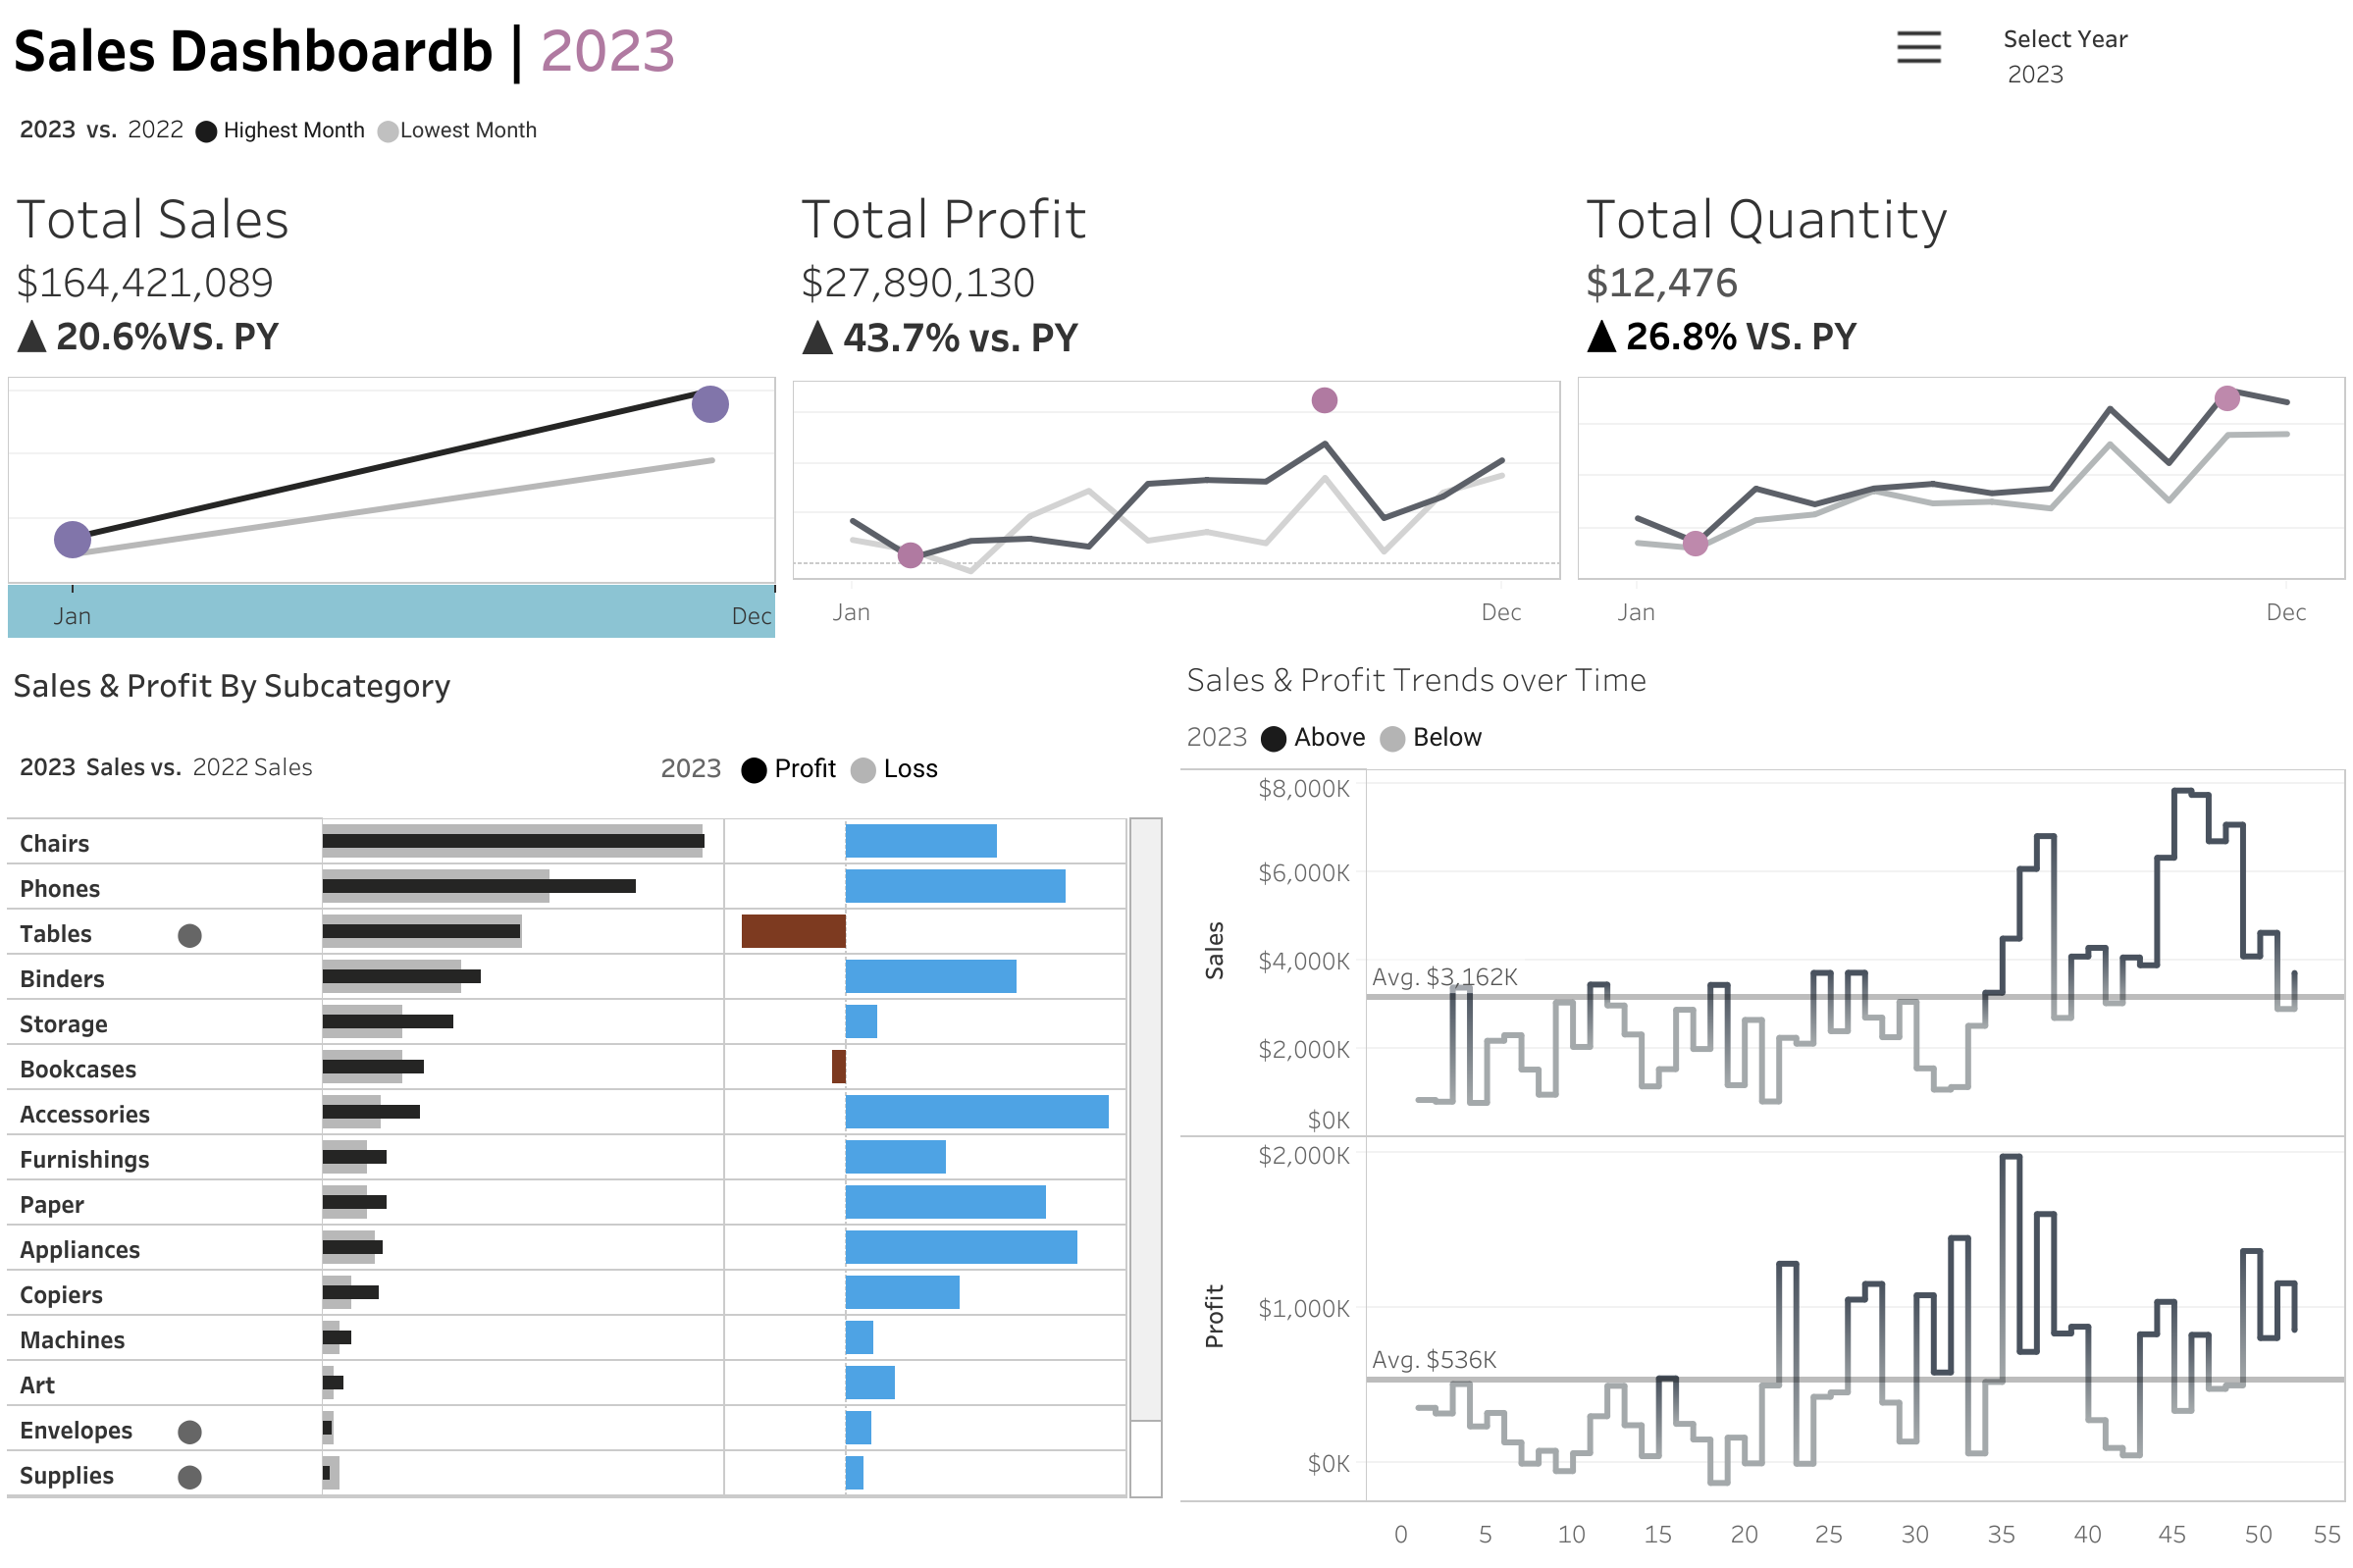

Layout of this report page (visuals, bound fields, positions):
{"tool":"tableau","page":{"name":"Sales Dashboard","canvas":[1200,800],"ordinal":0},"visuals":[{"type":"text","box":[0,0,1200,48]},{"type":"parameter","param":"[Parameters].[Parameter 1]","box":[1021,9,160,39]},{"type":"dashboard-object","box":[966,12,24,24]},{"type":"worksheet","title":"Legend KPI","mark":"Automatic","box":[0,49,1200,32]},{"type":"filter","title":"KPI Sales","param":"[federated.0f8x0do1cpumnb1cull2v1525hvk].[none:Category:nk]","box":[997,78,160,52]},{"type":"worksheet","title":"KPI Sales","mark":"Line","rows":["Calculation_4291015658731024389"],"cols":["Order Date"],"box":[0,81,400,249]},{"type":"worksheet","title":"KPI Profit","mark":"Line","rows":["Calculation_752312252436152322"],"cols":["Order Date"],"box":[400,81,400,249]},{"type":"worksheet","title":"KPI Quantity","mark":"Automatic","rows":["Calculation_1042090740985352196"],"cols":["Order Date"],"box":[800,81,400,249]},{"type":"filter","title":"KPI Sales","param":"[federated.0f8x0do1cpumnb1cull2v1525hvk].[none:Sub-Category:nk]","box":[997,130,160,52]},{"type":"filter","title":"KPI Sales","param":"[federated.0f8x0do1cpumnb1cull2v1525hvk].[none:Region:nk]","box":[997,182,160,52]},{"type":"filter","title":"KPI Sales","param":"[federated.0f8x0do1cpumnb1cull2v1525hvk].[none:State:nk]","box":[997,234,160,52]},{"type":"filter","title":"KPI Sales","param":"[federated.0f8x0do1cpumnb1cull2v1525hvk].[none:City:nk]","box":[997,286,160,52]},{"type":"text","box":[0,330,598,37]},{"type":"text","box":[598,330,602,31]},{"type":"text","box":[598,361,602,26]},{"type":"worksheet","title":"Legend Subcategory","mark":"Automatic","box":[0,367,330,46.2]},{"type":"text","box":[330,367,268,46.2]},{"type":"worksheet","title":"Weekly Trends","mark":"Automatic","rows":["Calculation_4291015658721972224","Calculation_752312252434964480"],"cols":["Order Date"],"box":[598,387,602,413]},{"type":"worksheet","title":"Subcategory Comparison","mark":"Bar","rows":["Sub-Category","Calculation_1187754041442635776"],"cols":["CY Sales (copy)_4291015658723635202","Calculation_4291015658721972224","Calculation_752312252434964480"],"box":[0,413.2,598,355]}]}

Visuals, with their boxes in screenshot pixels (x1, y1, x2, y2), scaled from the page's 1200x800 canvas onto the 2353x1568 screenshot:
text: Rect(0, 0, 2352, 94)
parameter: Rect(2002, 18, 2316, 94)
dashboard-object: Rect(1894, 24, 1941, 71)
"Legend KPI" worksheet: Rect(0, 96, 2352, 159)
"KPI Sales" filter: Rect(1955, 153, 2269, 255)
"KPI Sales" worksheet (Line marks): Rect(0, 159, 784, 647)
"KPI Profit" worksheet (Line marks): Rect(784, 159, 1569, 647)
"KPI Quantity" worksheet: Rect(1569, 159, 2352, 647)
"KPI Sales" filter: Rect(1955, 255, 2269, 357)
"KPI Sales" filter: Rect(1955, 357, 2269, 458)
"KPI Sales" filter: Rect(1955, 458, 2269, 560)
"KPI Sales" filter: Rect(1955, 560, 2269, 662)
text: Rect(0, 647, 1173, 719)
text: Rect(1173, 647, 2352, 707)
text: Rect(1173, 707, 2352, 758)
"Legend Subcategory" worksheet: Rect(0, 719, 647, 810)
text: Rect(647, 719, 1173, 810)
"Weekly Trends" worksheet: Rect(1173, 758, 2352, 1567)
"Subcategory Comparison" worksheet (Bar marks): Rect(0, 810, 1173, 1505)
